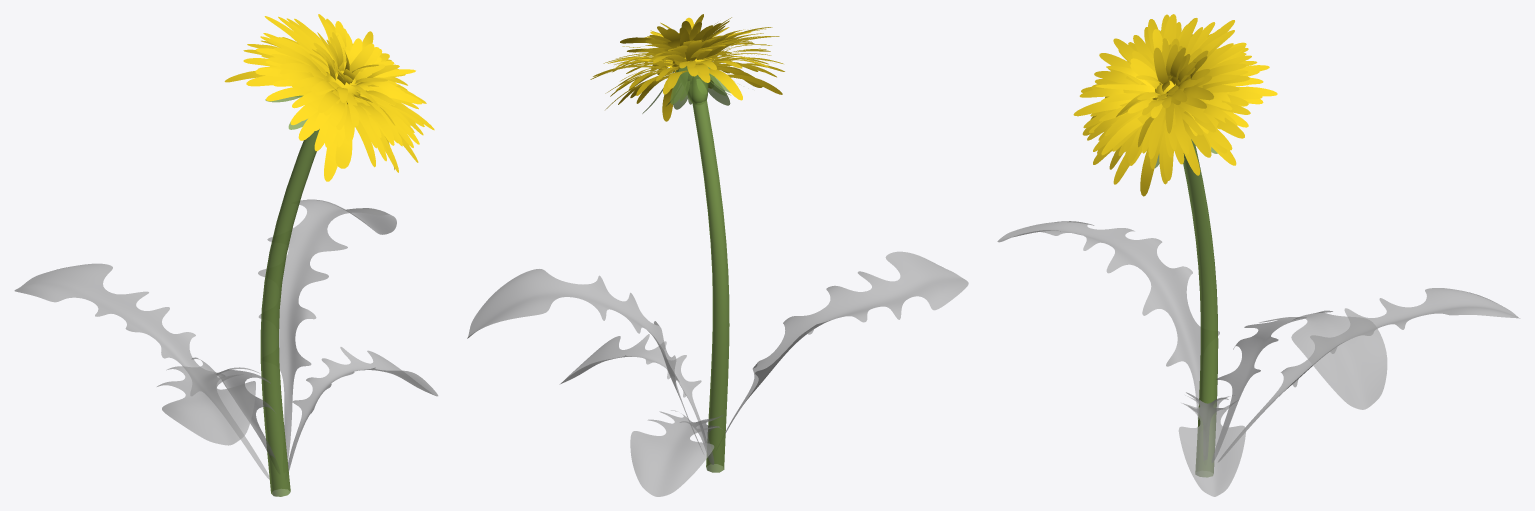
Rendered from object_EN-plants-dandelion_2.glb.
3 renders of one model, left to right at view 1: azimuth 30°, elevation 25°; view 2: azimuth 150°, elevation 25°; view 3: azimuth 270°, elevation 25°, orthographic. The views are drawn at different scales.
Parts seen in each view (by area): view 1: GEO-plants-dandelion-petals.005, GEO-plants-dandelion-stem.002, GEO-leaf.dandelion.006, GEO-leaf.dandelion.003, GEO-leaf.dandelion.005, GEO-leaf.dandelion.004; view 2: GEO-plants-dandelion-petals.005, GEO-leaf.dandelion.005, GEO-plants-dandelion-stem.002, GEO-leaf.dandelion.006, GEO-leaf.dandelion.003, GEO-leaf.dandelion.004; view 3: GEO-plants-dandelion-petals.005, GEO-leaf.dandelion.006, GEO-leaf.dandelion.005, GEO-plants-dandelion-stem.002, GEO-leaf.dandelion.003, GEO-leaf.dandelion.004.
Boxes of the visible parts, bbox=[...] form: GEO-plants-dandelion-petals.005: bbox=[224, 14, 434, 181]; GEO-plants-dandelion-stem.002: bbox=[260, 129, 319, 496]; GEO-leaf.dandelion.006: bbox=[258, 199, 396, 461]; GEO-leaf.dandelion.003: bbox=[14, 263, 269, 478]; GEO-leaf.dandelion.005: bbox=[157, 357, 275, 459]; GEO-leaf.dandelion.004: bbox=[288, 347, 437, 471]; GEO-plants-dandelion-petals.005: bbox=[590, 14, 784, 121]; GEO-leaf.dandelion.005: bbox=[725, 251, 968, 433]; GEO-plants-dandelion-stem.002: bbox=[692, 76, 729, 472]; GEO-leaf.dandelion.006: bbox=[467, 269, 702, 451]; GEO-leaf.dandelion.003: bbox=[630, 410, 722, 496]; GEO-leaf.dandelion.004: bbox=[559, 334, 706, 442]; GEO-plants-dandelion-petals.005: bbox=[1073, 14, 1277, 196]; GEO-leaf.dandelion.006: bbox=[1212, 310, 1387, 462]; GEO-leaf.dandelion.005: bbox=[997, 221, 1219, 419]; GEO-plants-dandelion-stem.002: bbox=[1183, 139, 1218, 477]; GEO-leaf.dandelion.003: bbox=[1218, 288, 1519, 461]; GEO-leaf.dandelion.004: bbox=[1178, 392, 1245, 496].
Size of the model in its own units: 0.1327 by 0.1617 by 0.1687.
